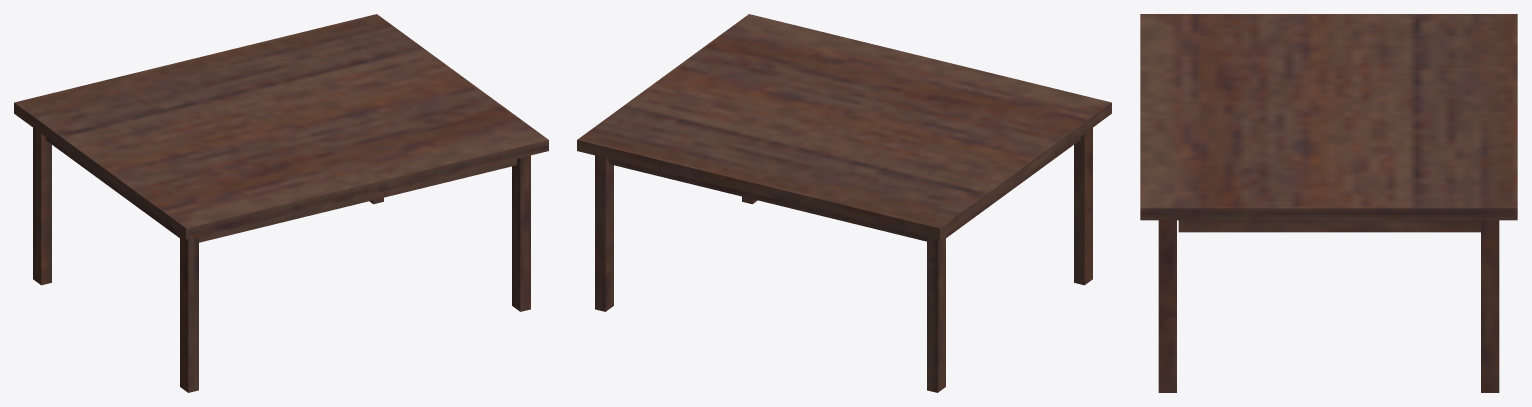
File: table.fbx
3 renders of one model, left to right at view 1: azimuth 30°, elevation 25°; view 2: azimuth 150°, elevation 25°; view 3: azimuth 270°, elevation 25°, orthographic. The views are drawn at different scales.
Visible parts, largest first — view 1: table; view 2: table; view 3: table.
Boxes of the visible parts, <box> form: table: <box>14,14,548,392</box>; table: <box>577,14,1111,392</box>; table: <box>1140,14,1517,392</box>.
Size of the model in its own units: 186 by 84.88 by 153.
